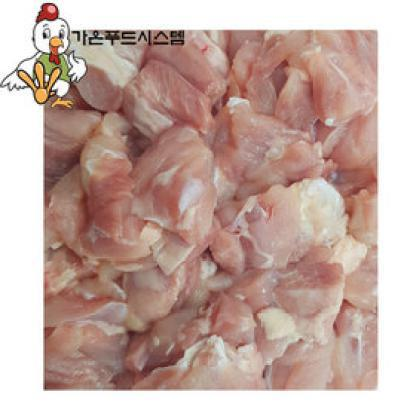chicken: (232, 244, 364, 360), (75, 98, 166, 262), (131, 121, 229, 242), (214, 107, 330, 190), (118, 55, 222, 146), (128, 312, 287, 371), (236, 190, 346, 259), (302, 44, 384, 120)
